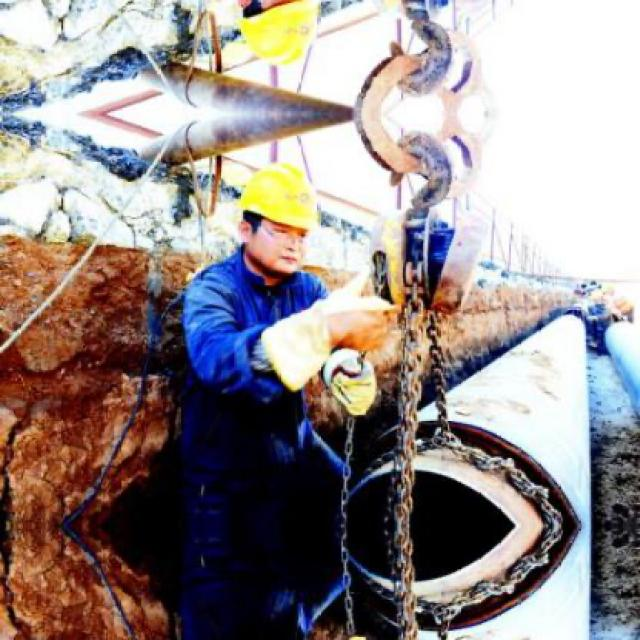helmet: (229, 152, 323, 284), (228, 0, 323, 77)
